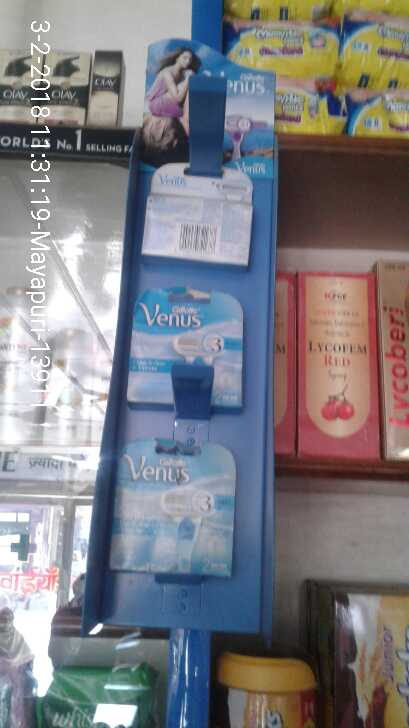beauty: (122, 279, 248, 414), (116, 442, 238, 579), (37, 48, 90, 127), (1, 49, 44, 120), (88, 50, 128, 125)
